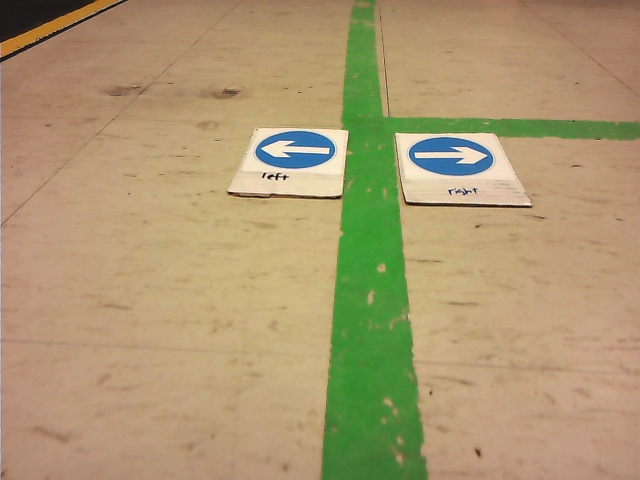TURN LEFT: (253, 131, 336, 167)
TURN RIGHT: (408, 137, 496, 175)
